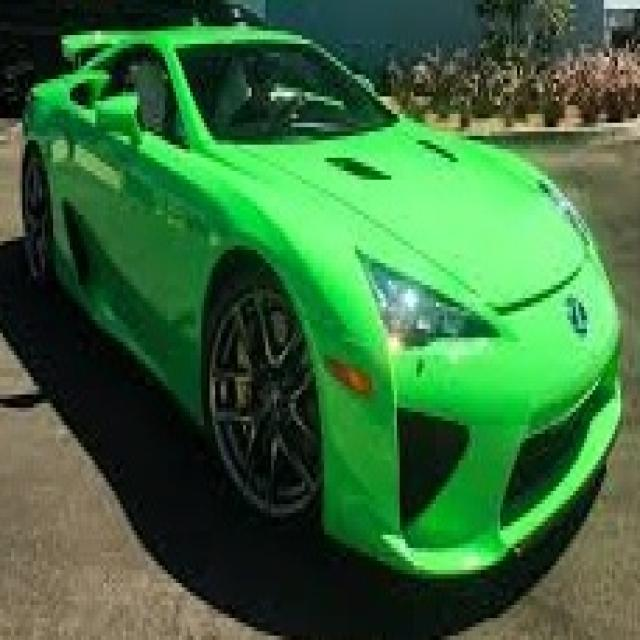green: (21, 13, 640, 593)
